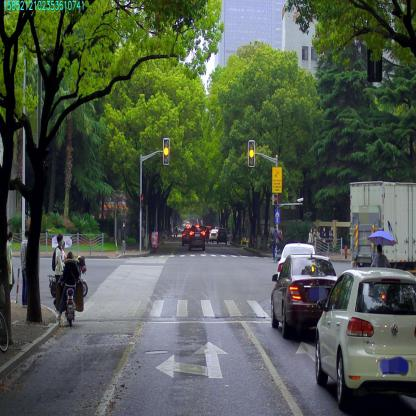traffic-light: (163, 138, 169, 164), (248, 141, 254, 166)
